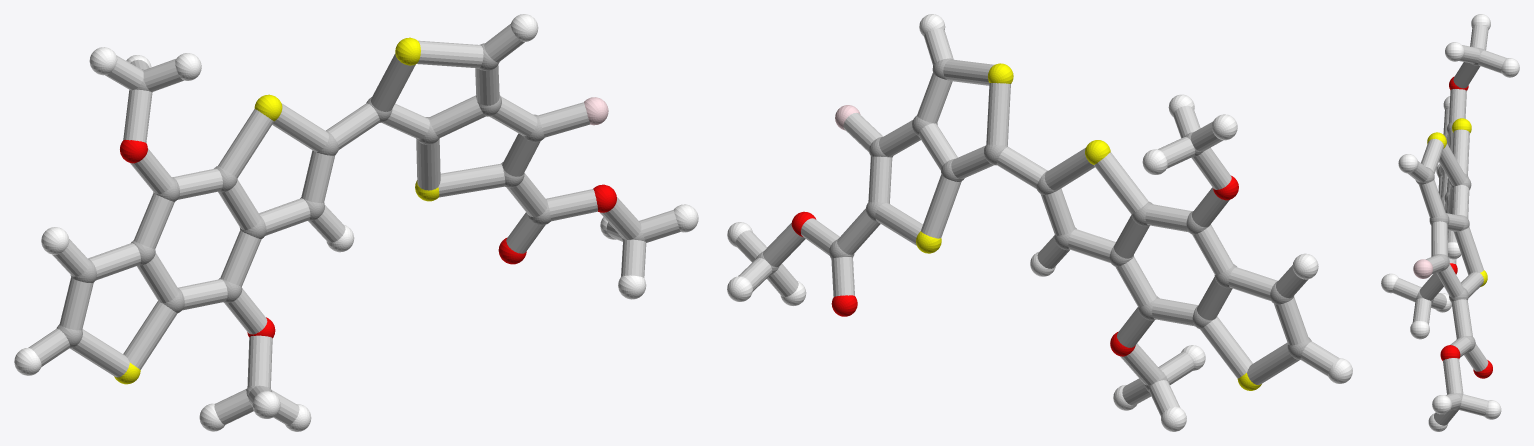
The model's file is Dimethoxy_Benzodithiophene_Phi_25_Theta_200_Methylcarbonyl_3_Fluoro_Thienothiophene.glb.
3 views of the same model, side by side, from view 1: azimuth 30°, elevation 25°; view 2: azimuth 150°, elevation 25°; view 3: azimuth 270°, elevation 25° (orthographic). The views are drawn at different scales.
Parts seen in each view (by area): view 1: grp15205, grp8689, grp1, grp7241, grp13395; view 2: grp15205, grp8689, grp1, grp7241, grp13395; view 3: grp15205, grp8689, grp1, grp13395, grp7241, grp14843.
Part boxes in pixels (box(x1,y1,x2,y2)): grp15205: box(28, 24, 680, 425); grp8689: box(14, 14, 698, 431); grp1: box(56, 43, 645, 396); grp7241: box(114, 37, 439, 384); grp13395: box(120, 139, 616, 338); grp15205: box(735, 28, 1338, 416); grp8689: box(727, 14, 1352, 431); grp1: box(755, 58, 1311, 391); grp7241: box(916, 63, 1261, 390); grp13395: box(791, 175, 1238, 356); grp15205: box(1392, 24, 1506, 425); grp8689: box(1381, 14, 1519, 431); grp1: box(1415, 47, 1483, 410); grp13395: box(1440, 76, 1492, 378); grp7241: box(1427, 118, 1487, 286); grp14843: box(1413, 259, 1432, 278).
Size of the model in its own units: 16.64 by 9.09 by 4.2.
